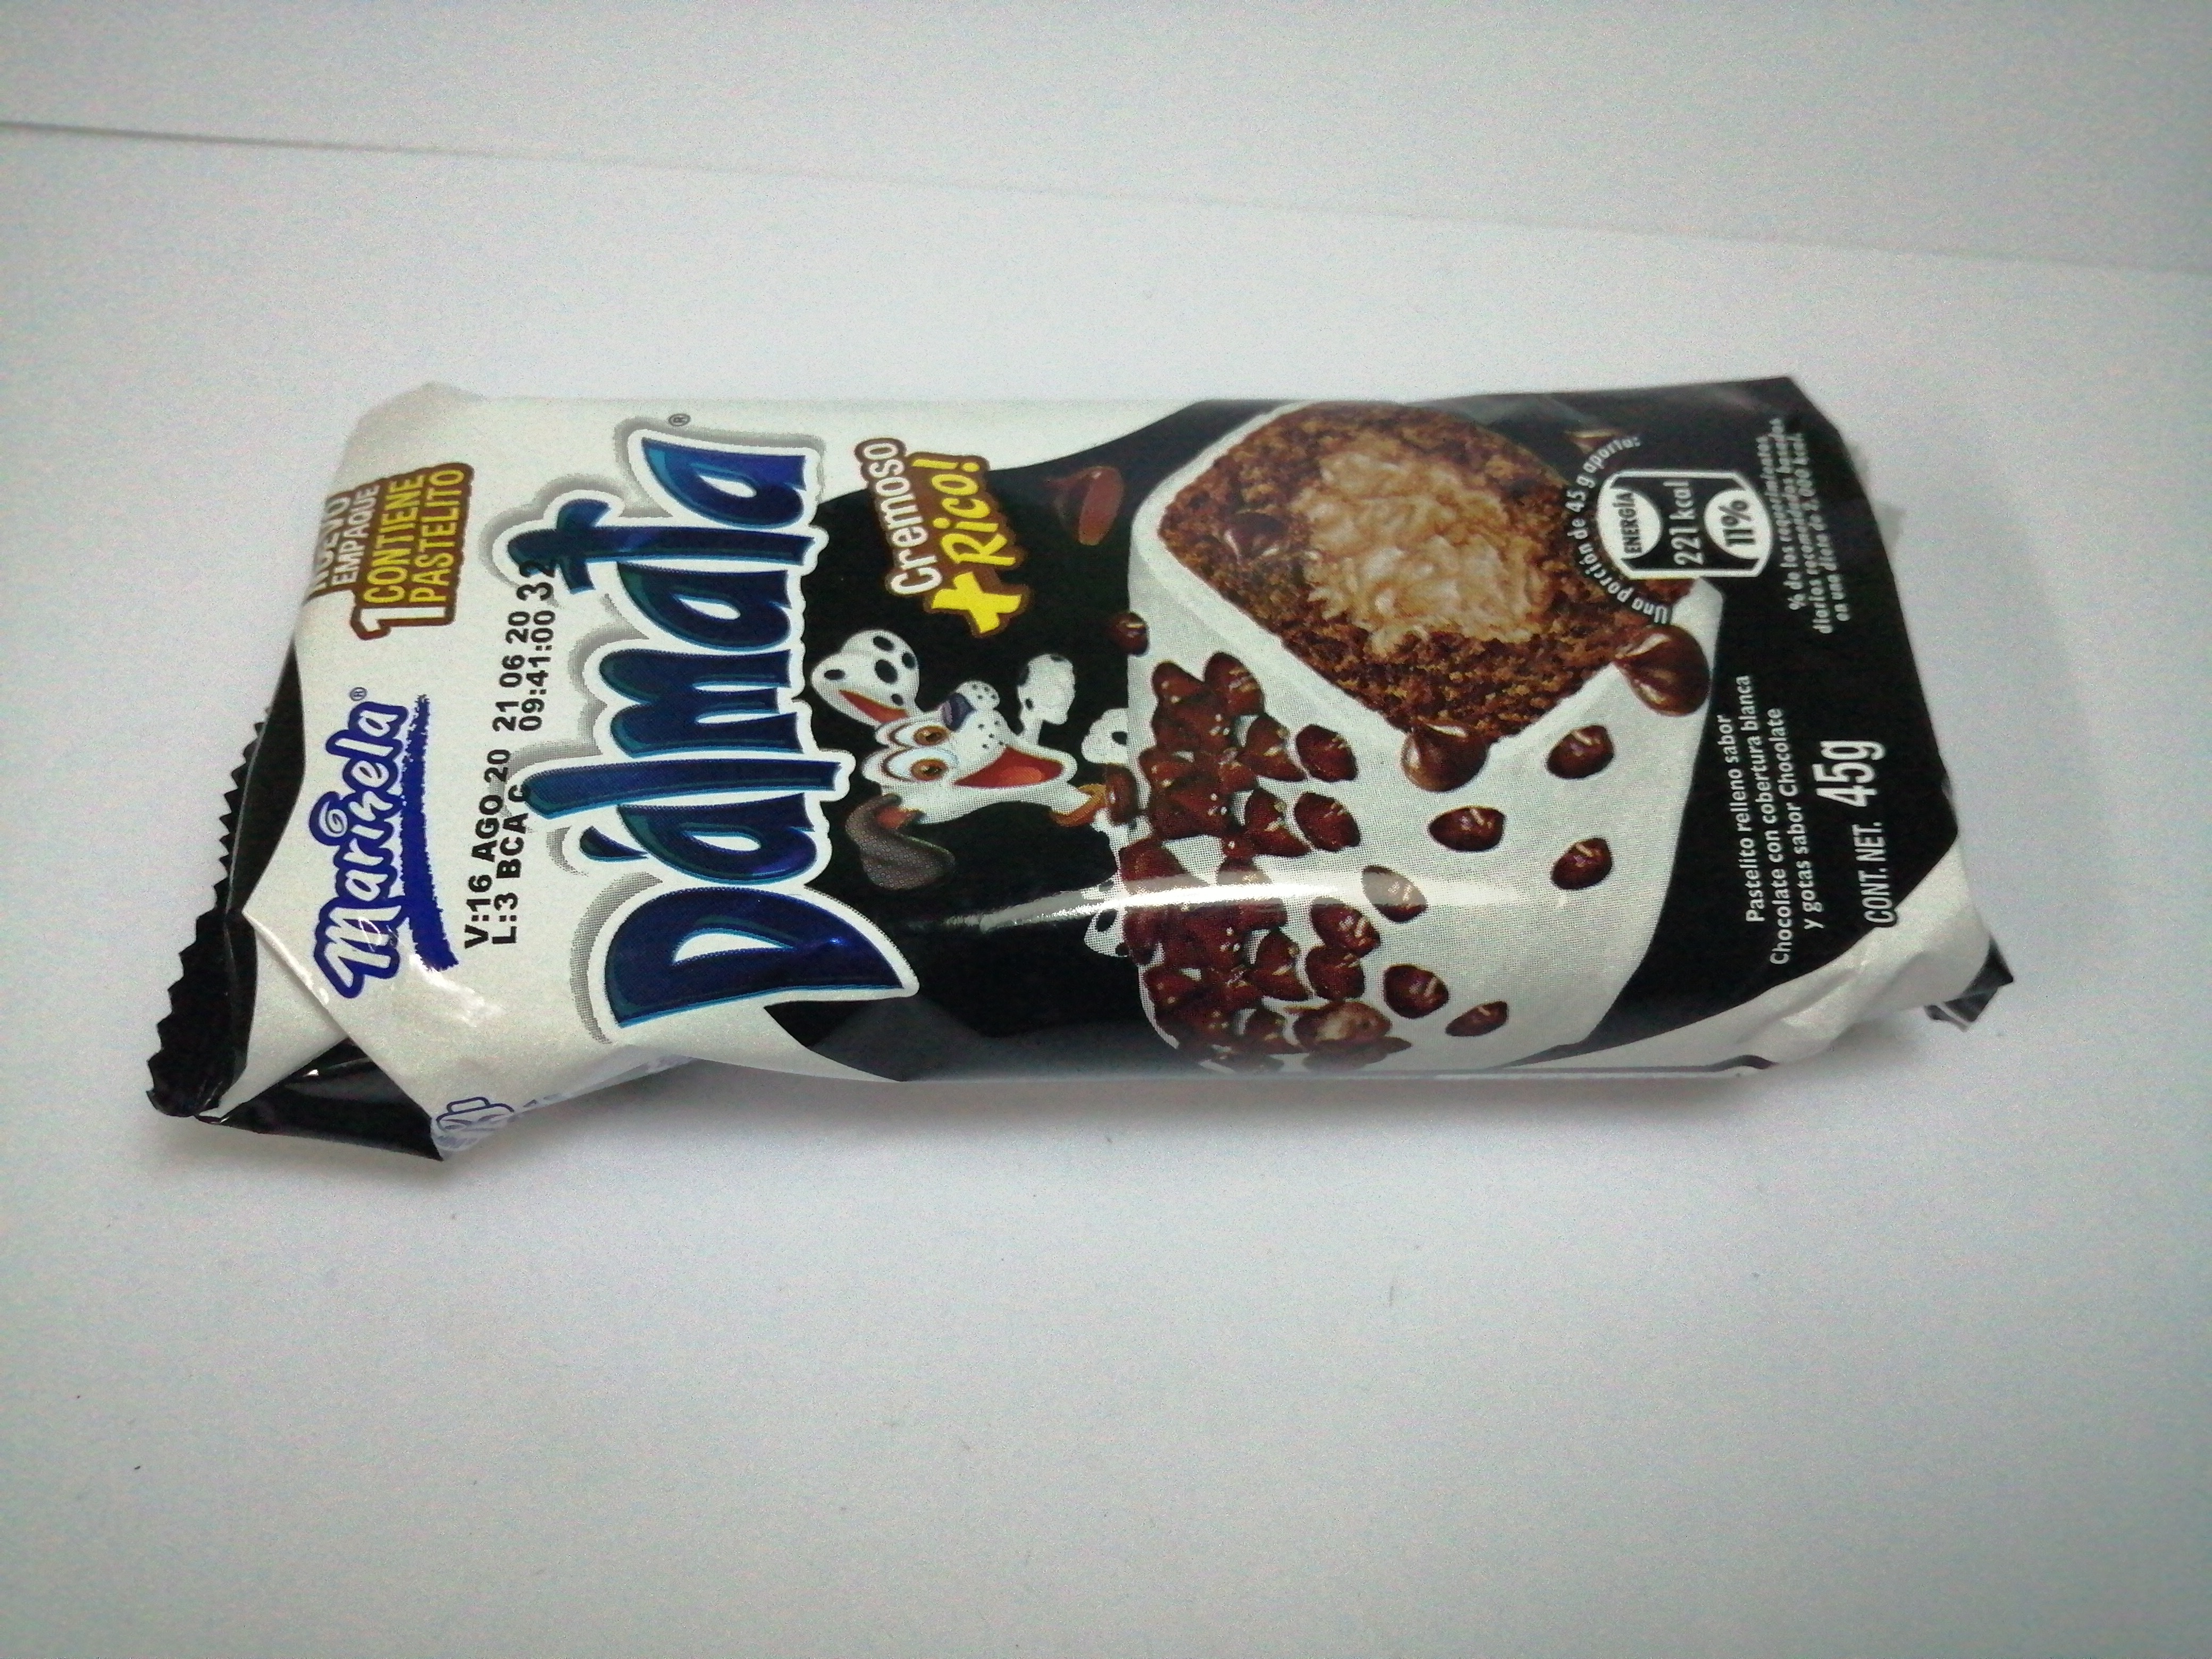dalmata: (155, 331, 2022, 1147)
